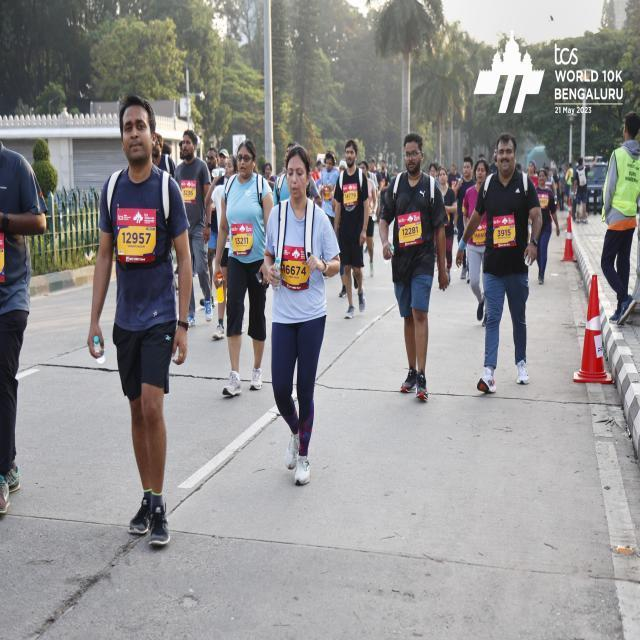dorsal: (116, 206, 160, 267), (280, 244, 312, 291), (396, 212, 422, 246), (230, 222, 254, 258), (493, 214, 516, 248)
